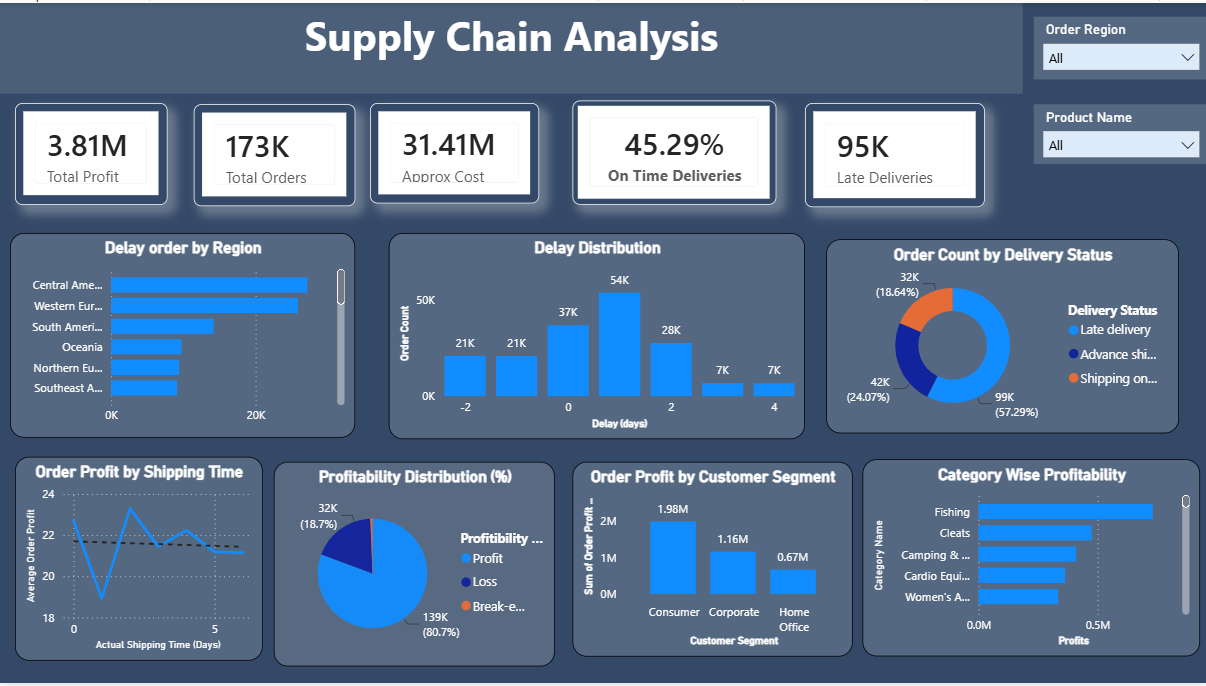

The page's visual inventory and layout, read from the dashboard file:
{"tool":"powerbi","page":{"name":"Page 1","canvas":[1280,720],"ordinal":0},"visuals":[{"type":"cardVisual","fields":{"Data":["DataCo_Cleaned.Total Profit"]},"box":[16.2,106.5,161.7,107.8],"z":0},{"type":"cardVisual","fields":{"Data":["DataCo_Cleaned.Total Orders"]},"box":[204.8,107.8,171.2,107.8],"z":1000},{"type":"cardVisual","fields":{"Data":["DataCo_Cleaned.Approx Cost"]},"box":[392.2,106.5,179.2,106.5],"z":2000},{"type":"cardVisual","fields":{"Data":["DataCo_Cleaned.Late Deliveries"]},"box":[853.1,106.5,190,110.5],"z":3000},{"type":"cardVisual","fields":{"Data":["DataCo_Cleaned.On Time Delivaries"]},"box":[606.4,103.8,215.6,110.5],"z":4000},{"type":"lineChart","title":"Order Profit by Shipping Time","fields":{"Category":["DataCo_Cleaned.Days for shipping (real)"],"Y":["Avg(DataCo_Cleaned.Order Profit Per Order)"]},"box":[15.9,480.6,262.1,215.8],"z":5000},{"type":"barChart","title":"Delay  order  by  Region","fields":{"Category":["DataCo_Cleaned.Order Region"],"Y":["CountNonNull(DataCo_Cleaned.Is_Delayed)"]},"box":[10.6,243.6,365.4,217.1],"z":6000},{"type":"pieChart","title":"Profitability Distribution (%)","fields":{"Y":["CountNonNull(DataCo_Cleaned.Profitibility Flag)"],"Category":["DataCo_Cleaned.Profitibility Flag"]},"box":[289.9,485.9,297.9,217.1],"z":7000},{"type":"donutChart","fields":{"Category":["DataCo_Cleaned.Delivery Status"],"Y":["DataCo_Cleaned.Order Count"]},"box":[875.1,250.2,373.4,205.2],"z":8000},{"type":"columnChart","title":"Delay Distribution","fields":{"Category":["DataCo_Cleaned.Delay"],"Y":["CountNonNull(DataCo_Cleaned.Delay)"]},"box":[411.8,243.6,440.9,218.5],"z":9000},{"type":"slicer","fields":{"Values":["DataCo_Cleaned.Product Name"]},"box":[1094.9,107.2,185.4,63.6],"z":10000},{"type":"slicer","fields":{"Values":["DataCo_Cleaned.Order Region"]},"box":[1094.9,14.6,185.4,66.2],"z":11000},{"type":"clusteredBarChart","title":"Category Wise Profitability","fields":{"Category":["DataCo_Cleaned.Category Name"],"Y":["Sum(DataCo_Cleaned.Order Profit Per Order)"]},"box":[913.5,483.2,357.5,209.2],"z":12000},{"type":"textbox","box":[0,0,1083.5,95.7],"z":13000},{"type":"columnChart","title":"Order Profit by Customer Segment","fields":{"Y":["Sum(DataCo_Cleaned.Order Profit Per Order)"],"Category":["DataCo_Cleaned.Customer Segment"]},"box":[606.4,485.9,296.6,206.5],"z":14000}]}

Visuals, with their boxes in screenshot pixels (x1, y1, x2, y2), scaled from the page's 1280x720 canvas onto the 1206x686 screenshot:
cardVisual - DataCo_Cleaned.Total Profit: <bbox>15, 101, 168, 204</bbox>
cardVisual - DataCo_Cleaned.Total Orders: <bbox>193, 103, 354, 205</bbox>
cardVisual - DataCo_Cleaned.Approx Cost: <bbox>370, 101, 538, 203</bbox>
cardVisual - DataCo_Cleaned.Late Deliveries: <bbox>804, 101, 983, 207</bbox>
cardVisual - DataCo_Cleaned.On Time Delivaries: <bbox>571, 99, 774, 204</bbox>
"Order Profit by Shipping Time" lineChart: <bbox>15, 458, 262, 664</bbox>
"Delay  order  by  Region" barChart: <bbox>10, 232, 354, 439</bbox>
"Profitability Distribution (%)" pieChart: <bbox>273, 463, 554, 670</bbox>
donutChart - DataCo_Cleaned.Delivery Status x DataCo_Cleaned.Order Count: <bbox>825, 238, 1176, 434</bbox>
"Delay Distribution" columnChart: <bbox>388, 232, 803, 440</bbox>
slicer - DataCo_Cleaned.Product Name: <bbox>1032, 102, 1205, 163</bbox>
slicer - DataCo_Cleaned.Order Region: <bbox>1032, 14, 1205, 77</bbox>
"Category Wise Profitability" clusteredBarChart: <bbox>861, 460, 1198, 660</bbox>
textbox: <bbox>0, 0, 1021, 91</bbox>
"Order Profit by Customer Segment" columnChart: <bbox>571, 463, 851, 660</bbox>
